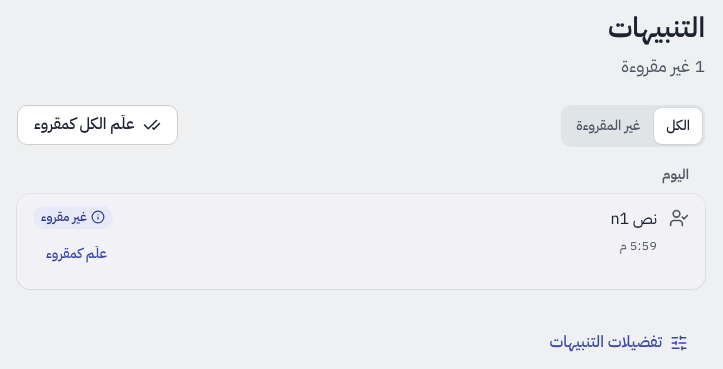
Test case: «التنبيهات» inbox › marks one or all as read; «علّم الكل كمقروء» is disabled with its reason when nothing is unread
Click the button "علّم كمقروء": (76, 254) [33,232,120,276]
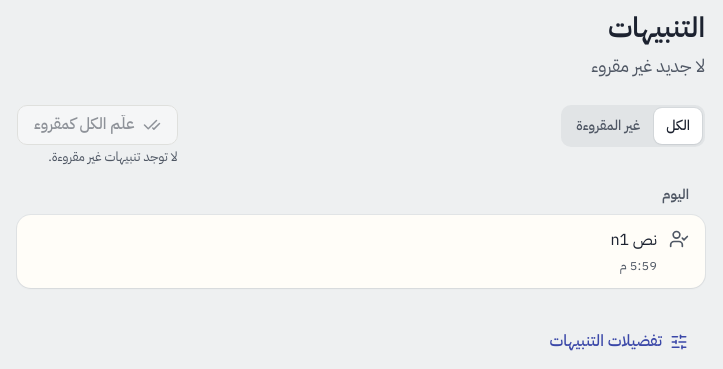
Now the button "علّم الكل كمقروء" is disabled, box [17,105,178,145]
